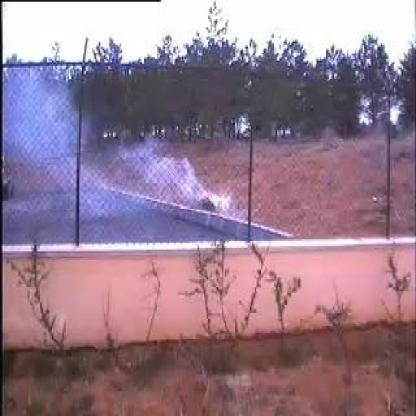-: (32, 69, 236, 220)
